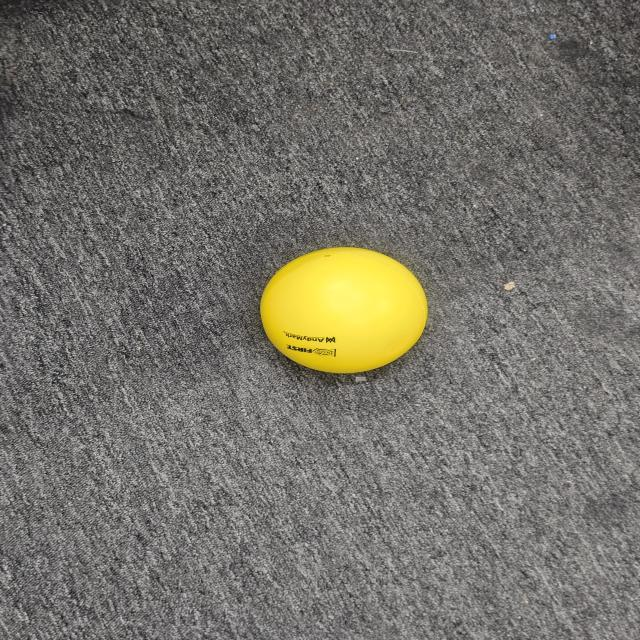Fuel: (246, 243, 434, 381)
